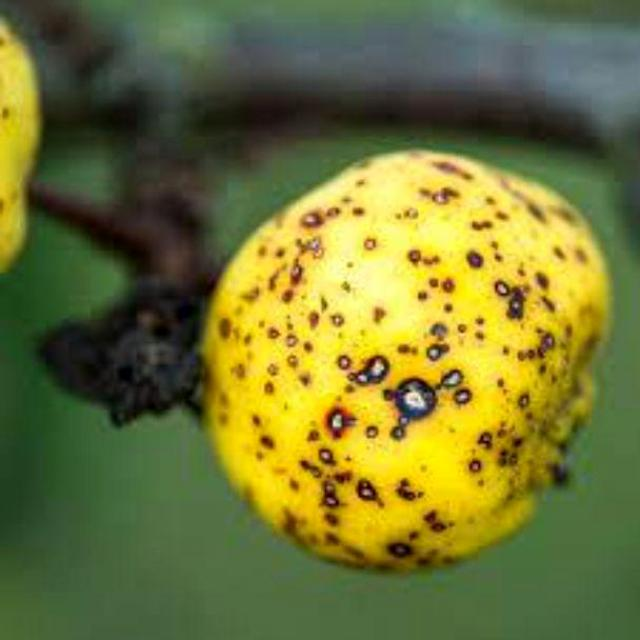SCAB: (200, 115, 609, 577)
